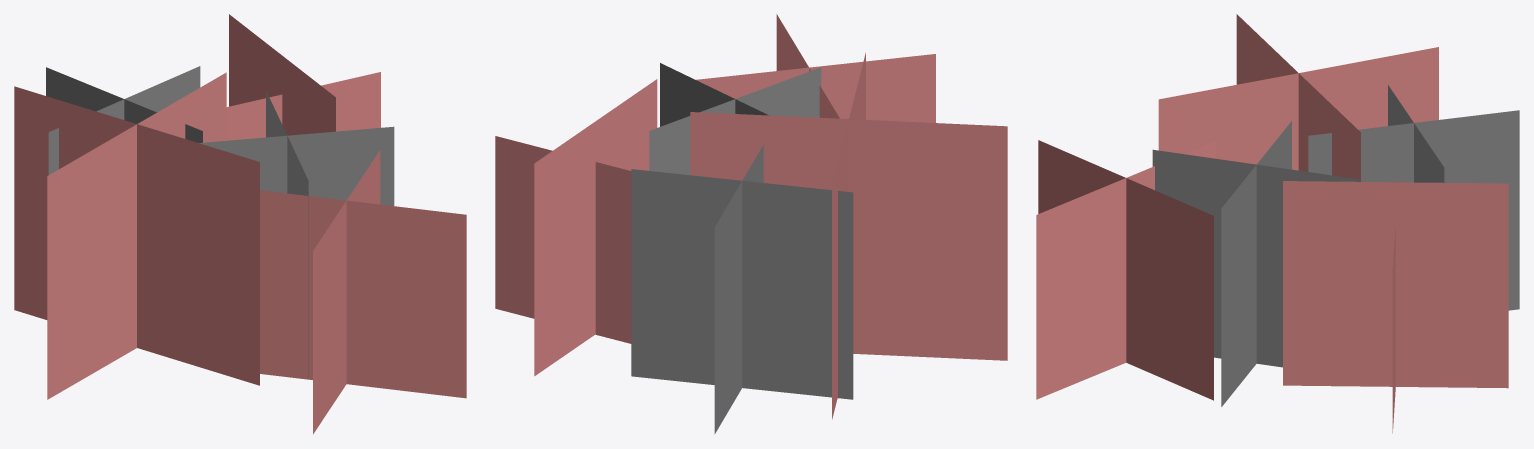
The model's file is SM_grass_flower_patch4.fbx.
The picture shows the model from 3 angles, left to right: view 1: azimuth 30°, elevation 25°; view 2: azimuth 150°, elevation 25°; view 3: azimuth 270°, elevation 25°; orthographic projection. The views are drawn at different scales.
Visible parts, largest first — view 1: SM_grass_flower_patch4; view 2: SM_grass_flower_patch4; view 3: SM_grass_flower_patch4.
Boxes of the visible parts, x1,y1,x2,y2 form: SM_grass_flower_patch4: (14,14,466,434); SM_grass_flower_patch4: (495,14,1007,434); SM_grass_flower_patch4: (1036,14,1519,433).
Bounding box in the file's own units: 38.13 × 20.15 × 38.58.
